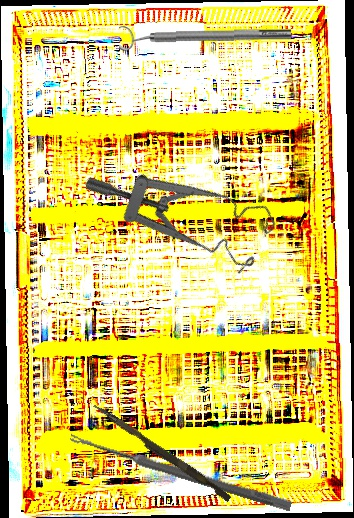Fixation Ring: (118, 21, 292, 52)
Pusher: (89, 402, 234, 503)
Speculum: (80, 105, 289, 306)
Surgical Spoon: (68, 432, 293, 512)
